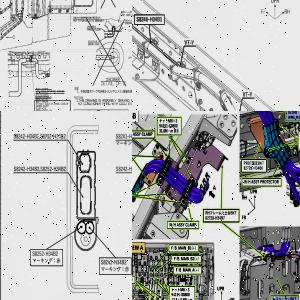PartNumber: (40, 132, 67, 140), (136, 15, 162, 23), (13, 132, 39, 140), (40, 165, 67, 172), (32, 250, 59, 257), (100, 259, 127, 266), (14, 165, 39, 172), (115, 164, 132, 172), (159, 122, 178, 128), (170, 292, 191, 297), (115, 132, 132, 138), (206, 215, 226, 220), (243, 166, 263, 170), (36, 104, 49, 108)
